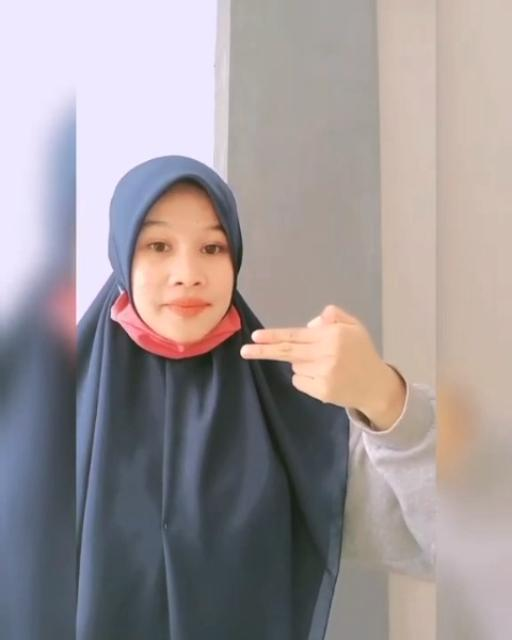H: (237, 304, 413, 422)
